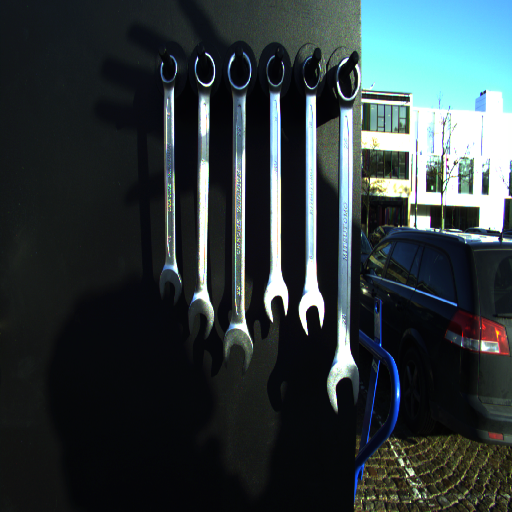bottom: (324, 359, 363, 416), (222, 320, 255, 371), (296, 288, 327, 336), (186, 290, 215, 341), (261, 282, 291, 323), (157, 263, 184, 305)
top: (333, 56, 362, 105), (225, 51, 253, 93), (192, 51, 217, 90), (264, 53, 289, 91), (299, 55, 322, 92), (157, 54, 180, 86)
